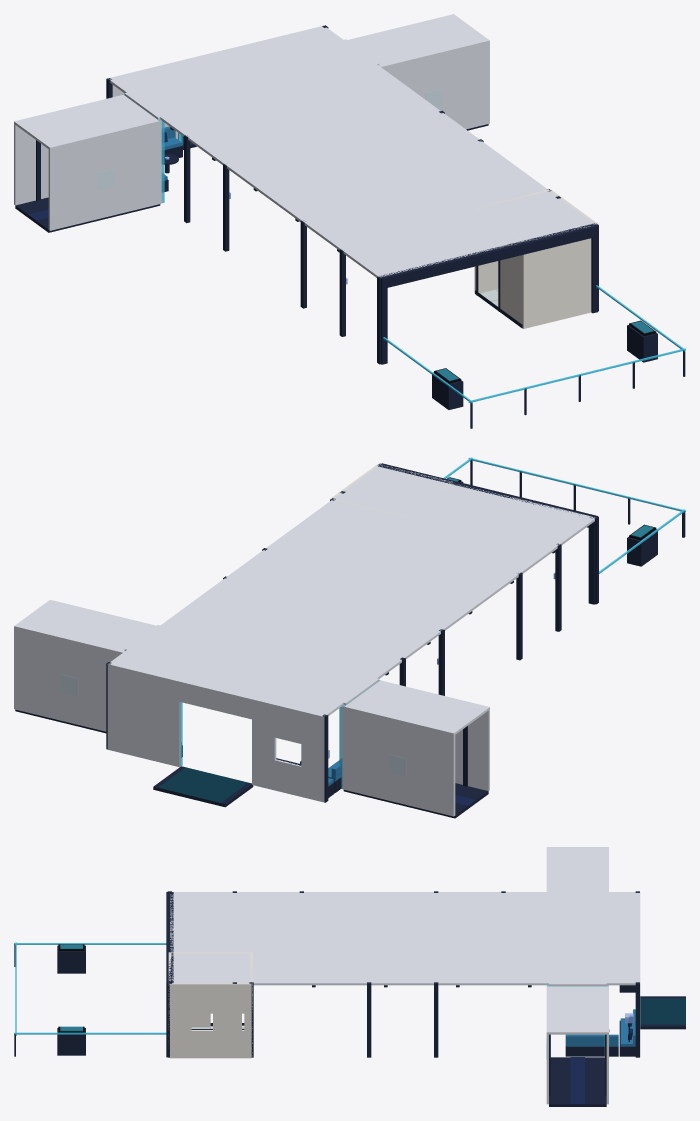
File: skyfleet_bake3_07.glb
3 renders of one model, top to bottom at view 1: azimuth 30°, elevation 25°; view 2: azimuth 150°, elevation 25°; view 3: azimuth 270°, elevation 25°, orthographic. The views are drawn at different scales.
Parts seen in each view (by area): view 1: baked; view 2: baked; view 3: baked.
Boxes of the visible parts, box(x1,y1,x2,y2) form: baked: box(14, 14, 685, 428); baked: box(14, 457, 685, 818); baked: box(14, 847, 685, 1106).
Bounding box in the file's own units: 18.28 × 3.52 × 28.01.
